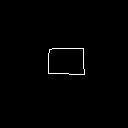cube: (26, 36, 96, 93)
